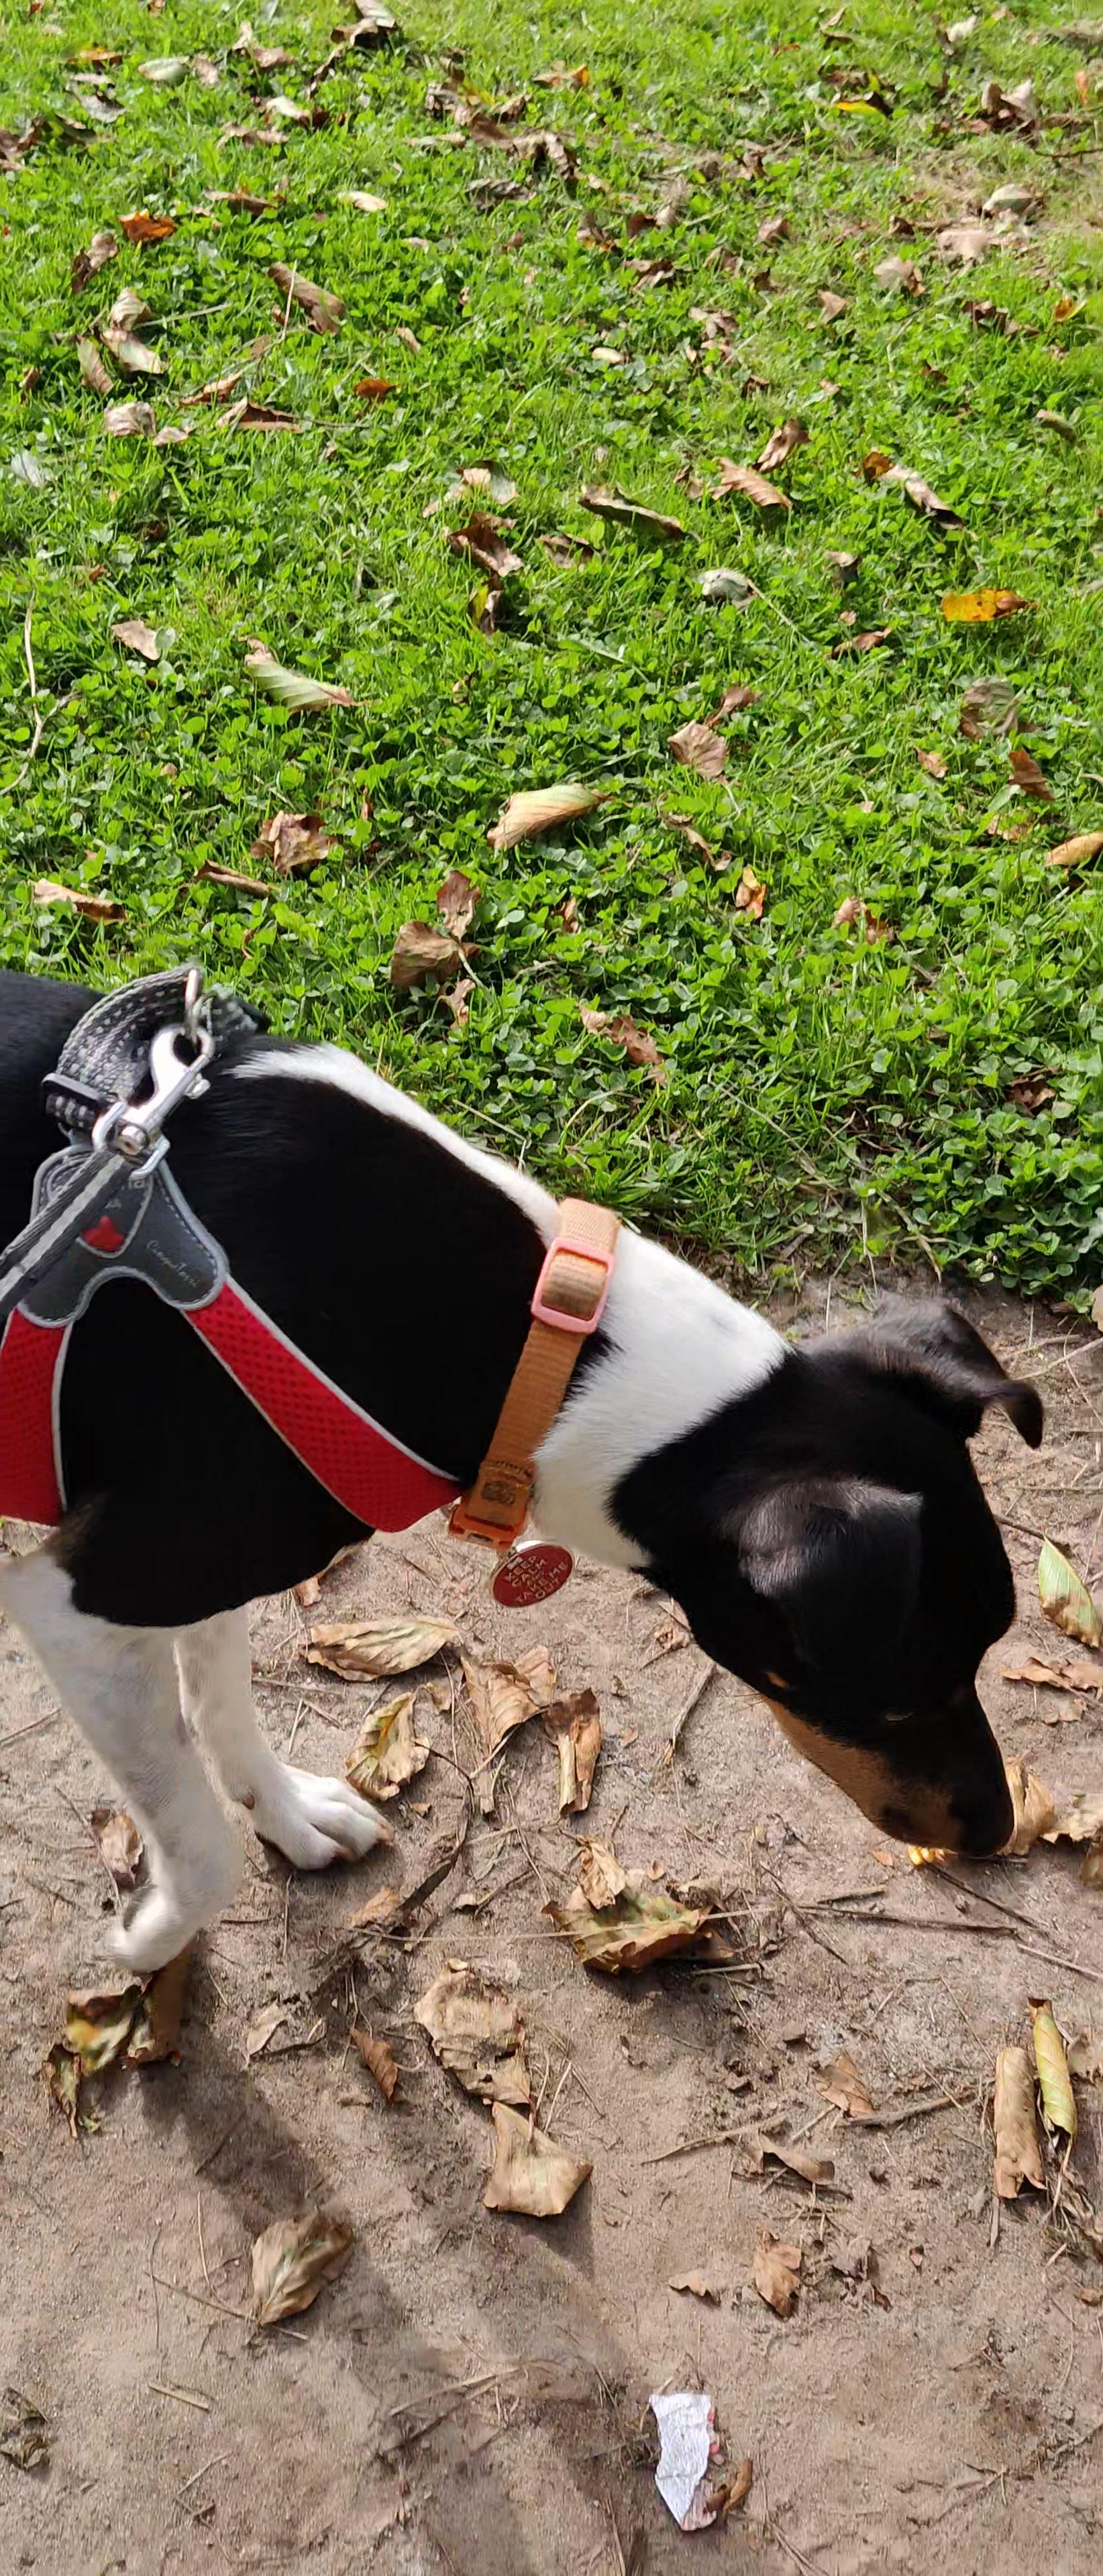Dog: (0, 930, 1050, 1978)
